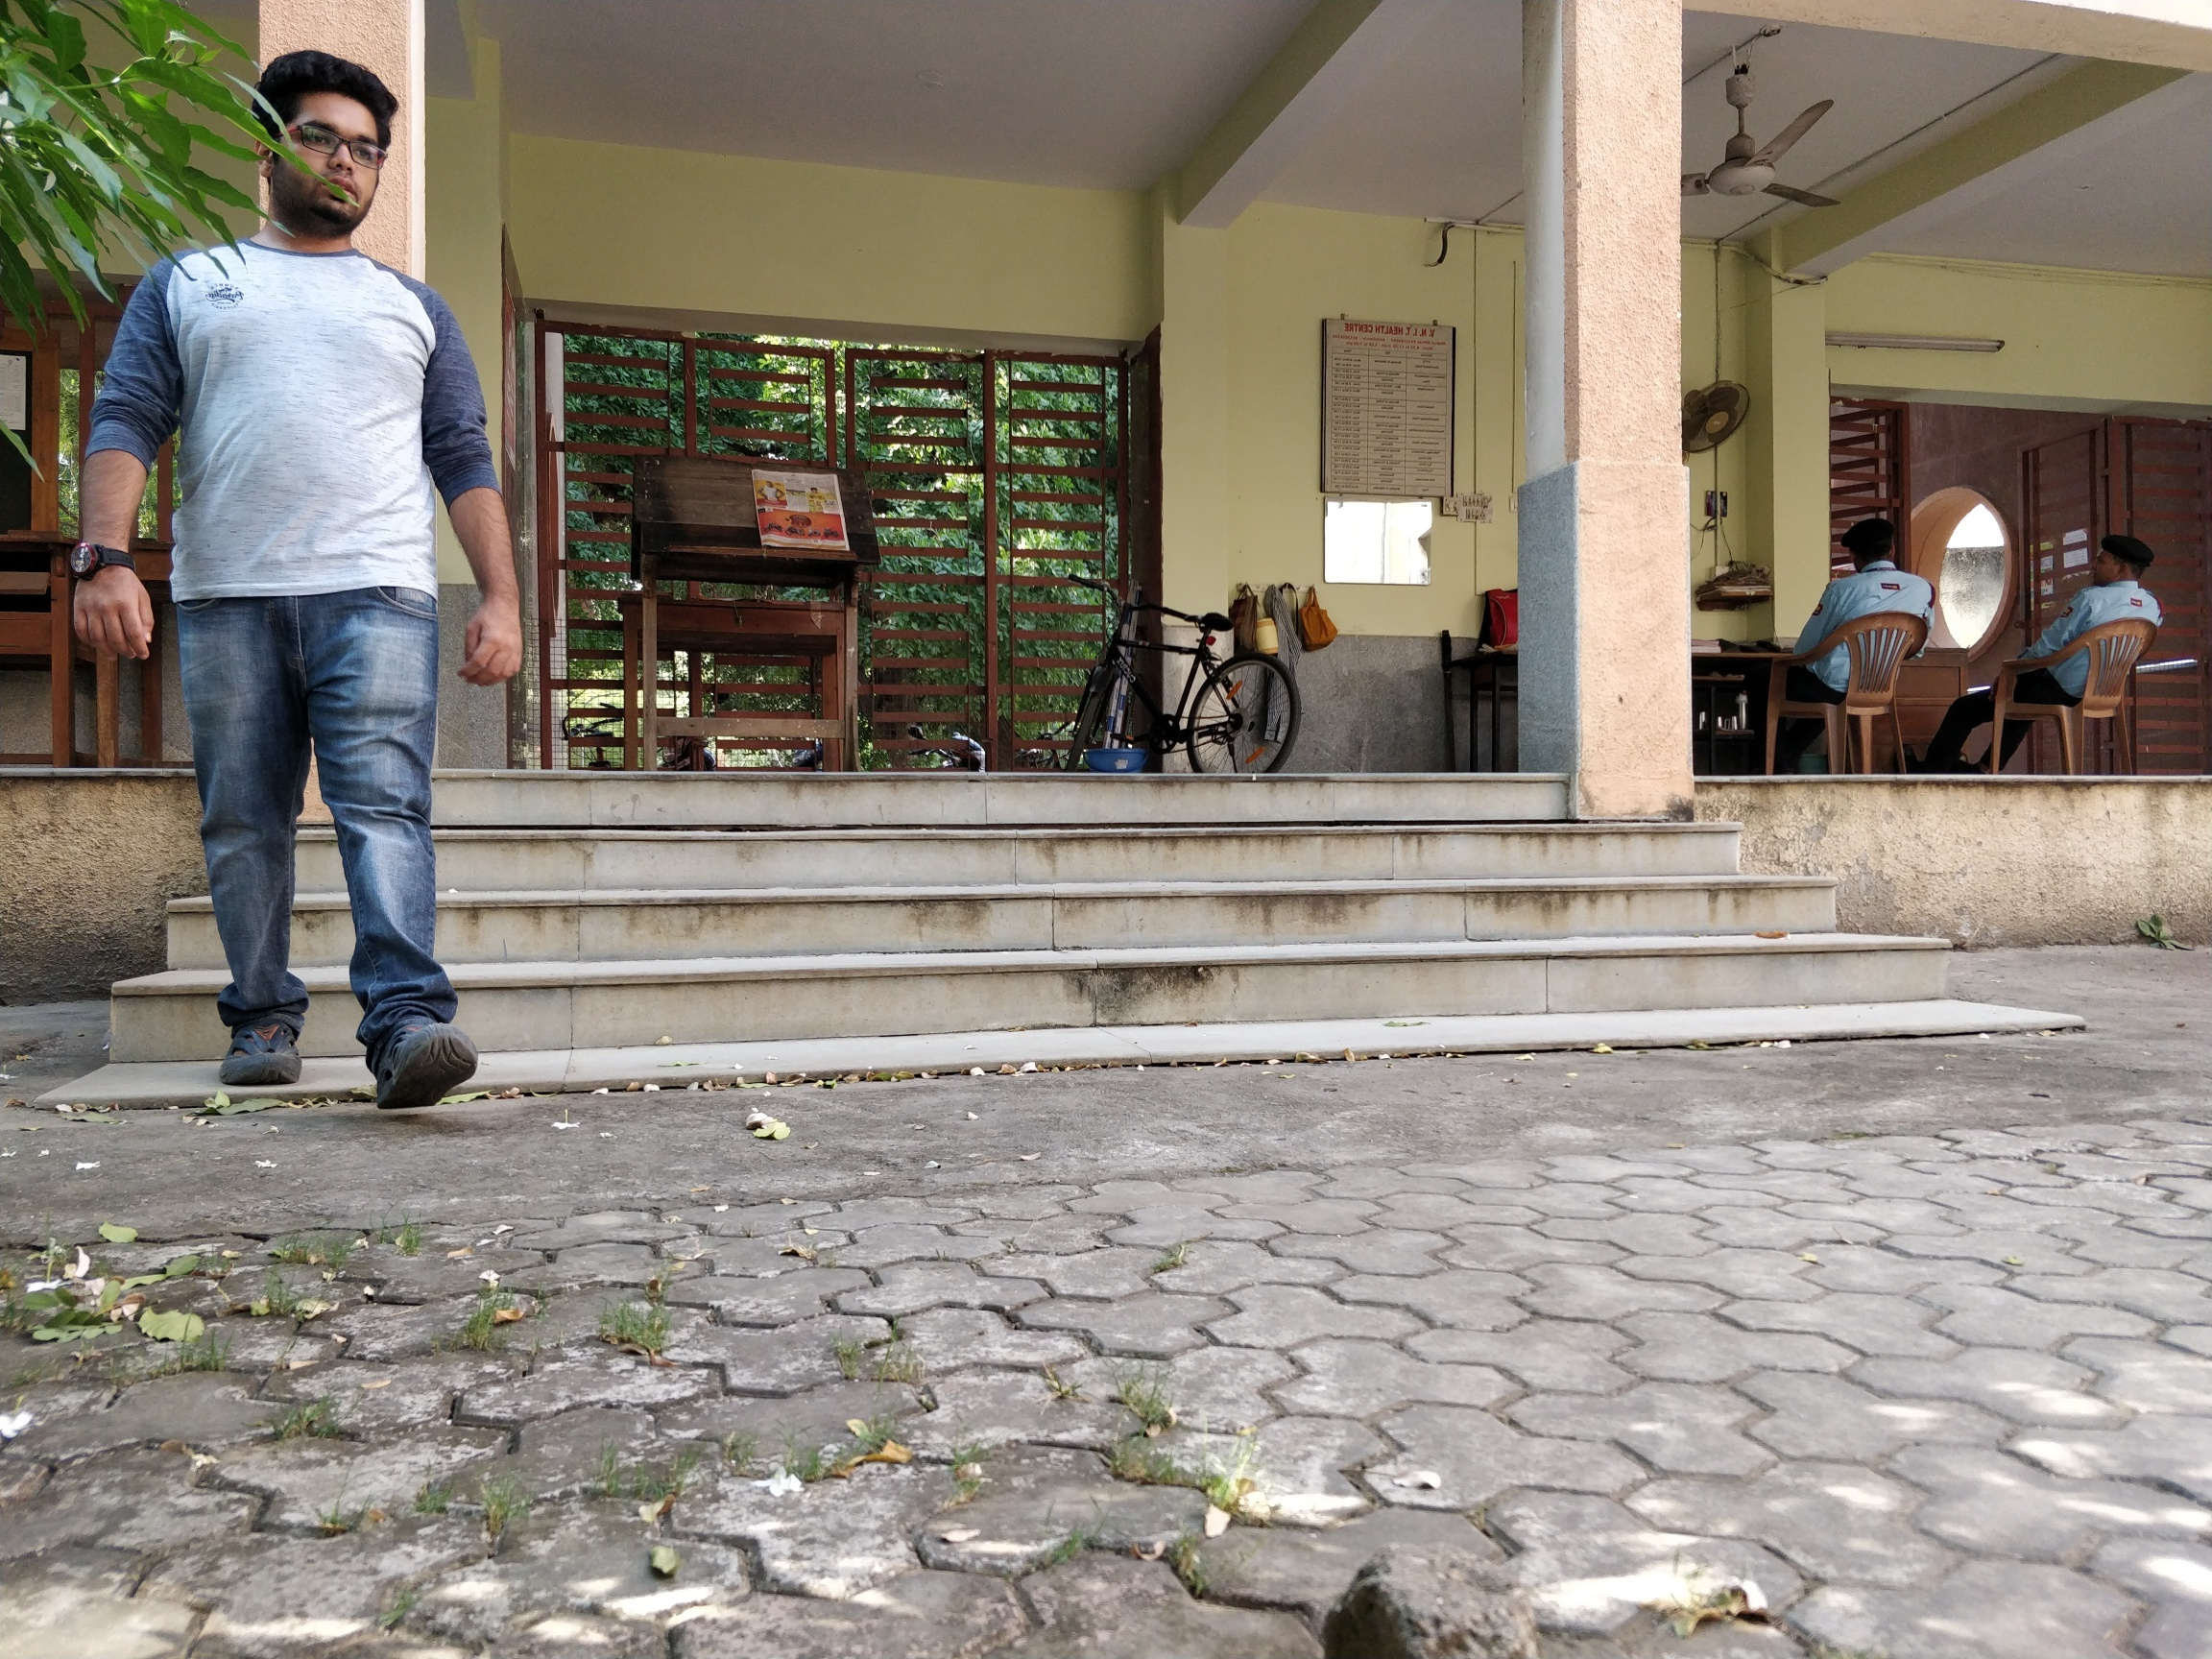stairs_up: (153, 765, 1881, 1021)
